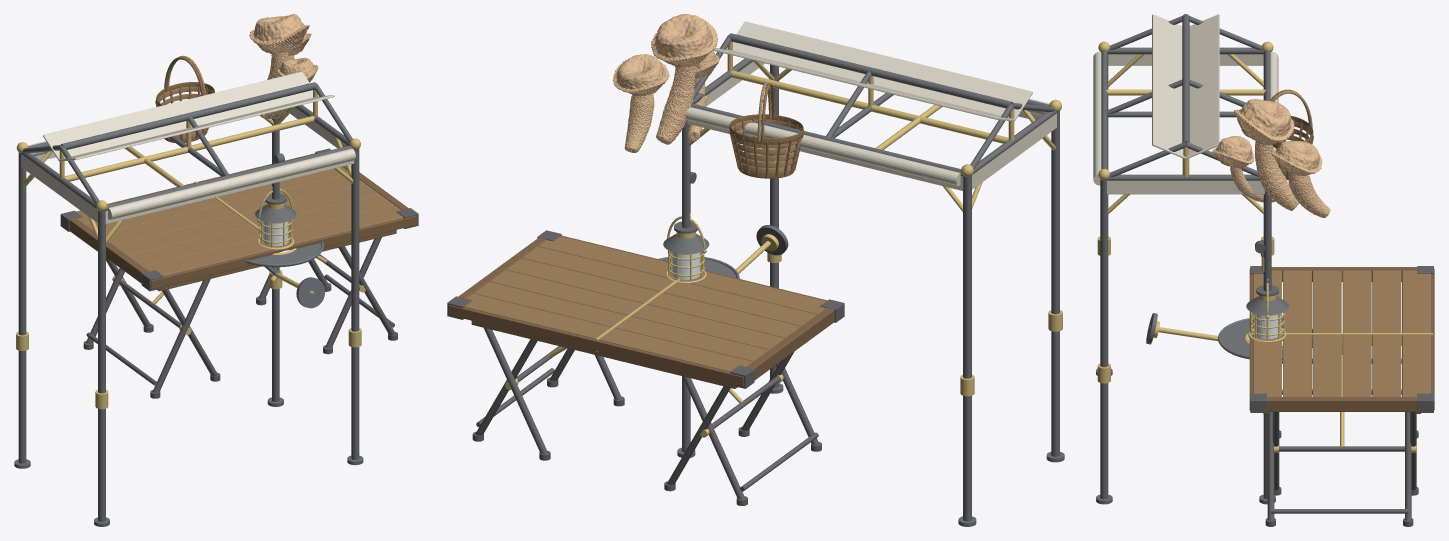
File: 3dcodebench_Mushroom_seed0_L6_Q3__gemini4argon.glb
The picture shows the model from 3 angles, left to right: view 1: azimuth 30°, elevation 25°; view 2: azimuth 150°, elevation 25°; view 3: azimuth 270°, elevation 25°; orthographic projection. The views are drawn at different scales.
Visible parts, largest first — view 1: object; view 2: object; view 3: object.
Part boxes in pixels (<box>): object: <box>14,14,418,526</box>; object: <box>447,14,1064,526</box>; object: <box>1093,14,1434,526</box>.
Size of the model in its own units: 2.53 by 2.38 by 1.84.
